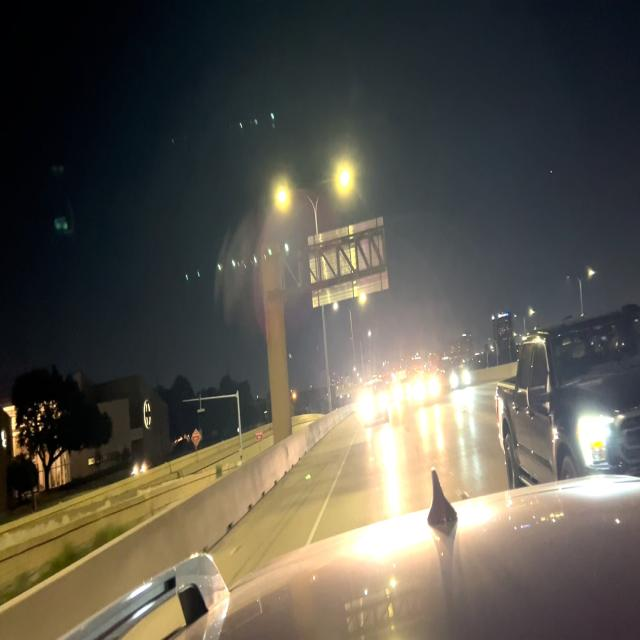back-of-sign: (307, 217, 390, 309)
